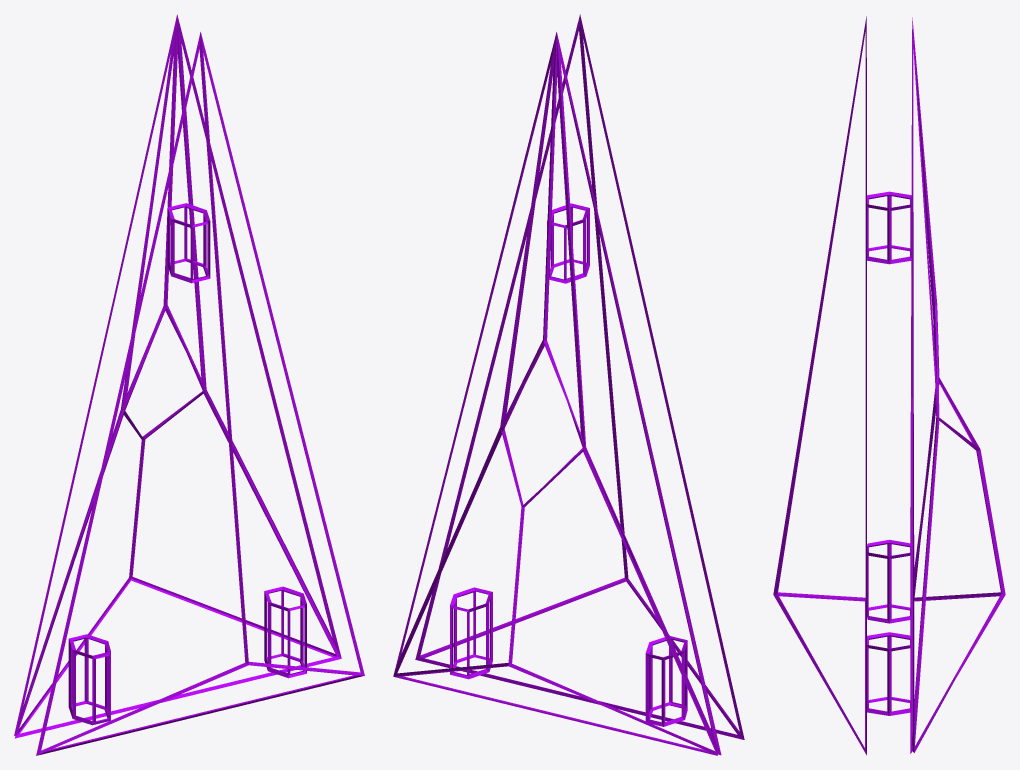
File: ennemi 2_wireframe.fbx
The picture shows the model from 3 angles, left to right: view 1: azimuth 30°, elevation 25°; view 2: azimuth 150°, elevation 25°; view 3: azimuth 270°, elevation 25°; orthographic projection. The views are drawn at different scales.
Visible parts, largest first — view 1: Plane; view 2: Plane; view 3: Plane.
Part boxes in pixels (bbox=[...]): Plane: bbox=[14, 14, 364, 755]; Plane: bbox=[393, 14, 744, 755]; Plane: bbox=[773, 16, 1005, 755].
Size of the model in its own units: 202 by 402 by 127.
